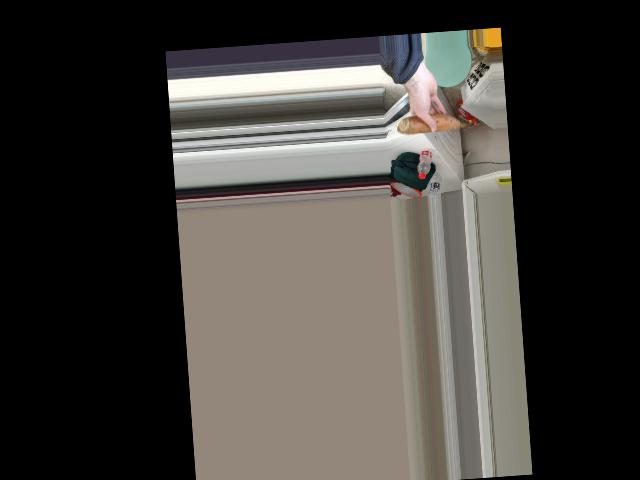sweet_potato: (402, 112, 463, 134)
